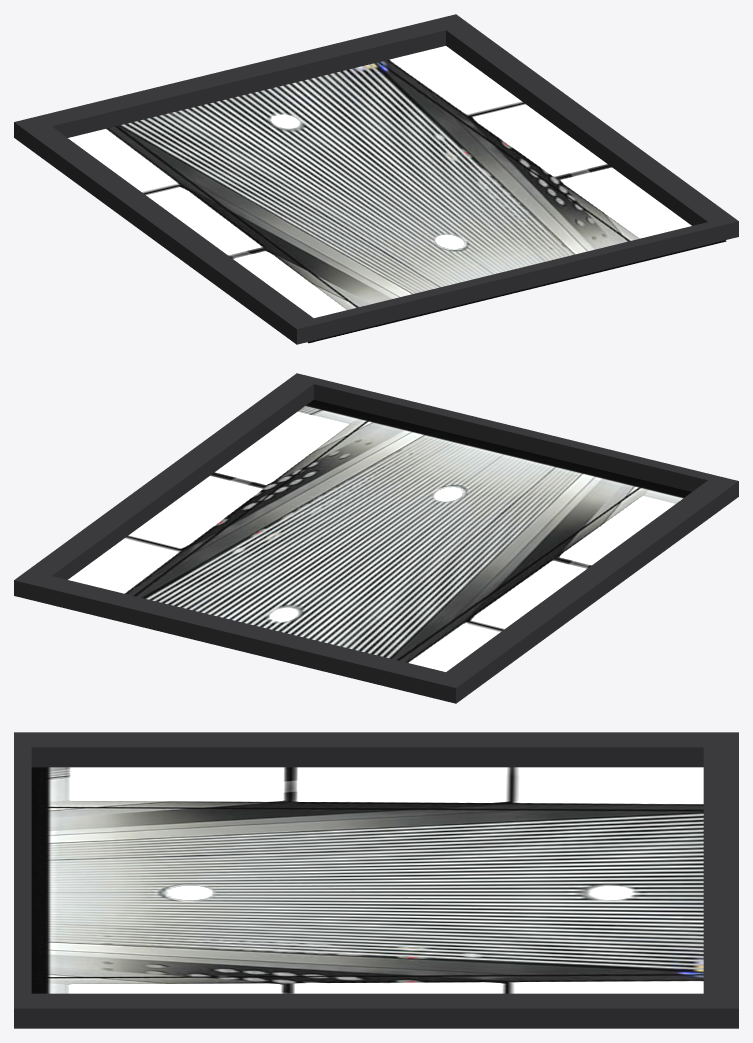
Rendered from ceiling_DD201.glb.
3 renders of one model, top to bottom at view 1: azimuth 30°, elevation 25°; view 2: azimuth 150°, elevation 25°; view 3: azimuth 270°, elevation 25°, orthographic. The views are drawn at different scales.
Visible parts, largest first — view 1: Ceiling_Shell, Ceiling_Mirror, Ceiling_Panel_R, Ceiling_Panel_L; view 2: Ceiling_Shell, Ceiling_Mirror, Ceiling_Panel_R, Ceiling_Panel_L; view 3: Ceiling_Shell, Ceiling_Mirror, Ceiling_Panel_L, Ceiling_Panel_R.
Part boxes in pixels (bbox=[...]): Ceiling_Shell: bbox=[14, 14, 738, 344]; Ceiling_Mirror: bbox=[173, 76, 592, 310]; Ceiling_Panel_R: bbox=[322, 46, 726, 273]; Ceiling_Panel_L: bbox=[68, 112, 442, 343]; Ceiling_Shell: bbox=[14, 373, 738, 703]; Ceiling_Mirror: bbox=[192, 430, 586, 646]; Ceiling_Panel_R: bbox=[68, 400, 437, 609]; Ceiling_Panel_L: bbox=[341, 466, 691, 671]; Ceiling_Shell: bbox=[14, 732, 738, 1028]; Ceiling_Mirror: bbox=[31, 845, 703, 939]; Ceiling_Panel_L: bbox=[31, 767, 703, 845]; Ceiling_Panel_R: bbox=[31, 939, 703, 993].
Bounding box in the file's own units: 1.48 × 0.056 × 1.64.
Materials: 3 (1 with a texture image).
